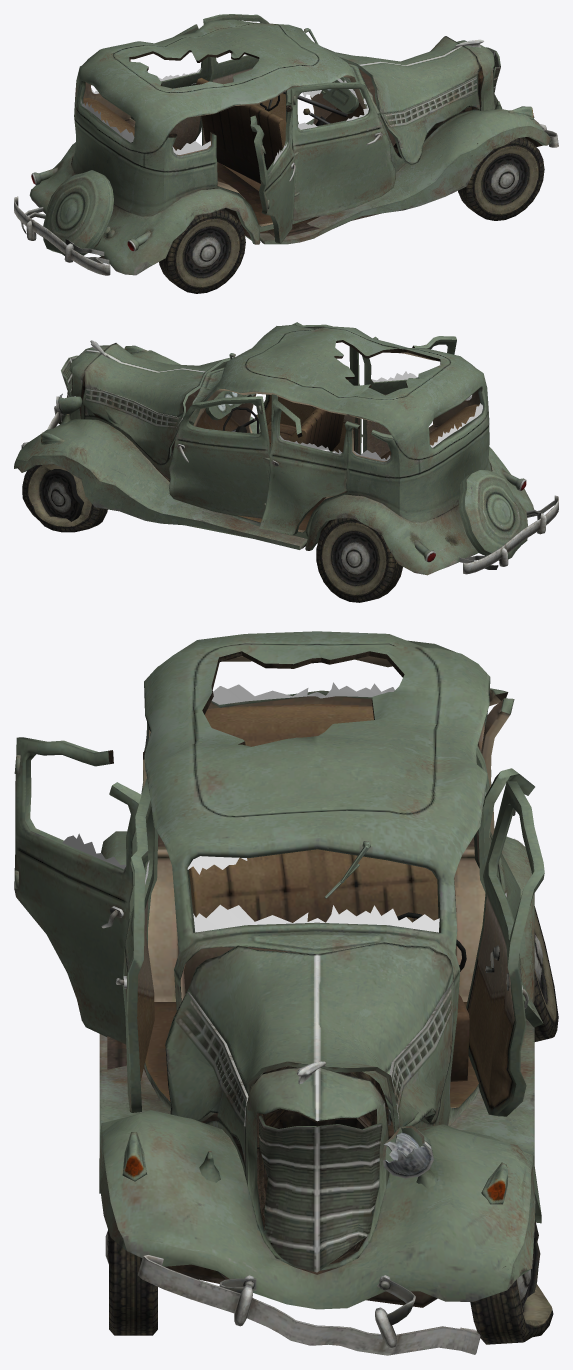
The model's file is fancy_cardestroyed.glb.
The picture shows the model from 3 angles, top to bottom: view 1: azimuth 30°, elevation 25°; view 2: azimuth 150°, elevation 25°; view 3: azimuth 270°, elevation 25°; orthographic projection. The views are drawn at different scales.
Visible parts, largest first — view 1: Object_2, Object_3; view 2: Object_2, Object_3; view 3: Object_2, Object_3.
Boxes of the visible parts, bbox=[...] form: Object_2: bbox=[14, 14, 558, 293]; Object_3: bbox=[81, 68, 368, 164]; Object_2: bbox=[14, 322, 558, 602]; Object_3: bbox=[279, 371, 482, 461]; Object_2: bbox=[14, 631, 558, 1355]; Object_3: bbox=[62, 682, 485, 932].
Bounding box in the file's own units: 223 × 84.08 × 108.
Materials: 2 (1 with a texture image).
